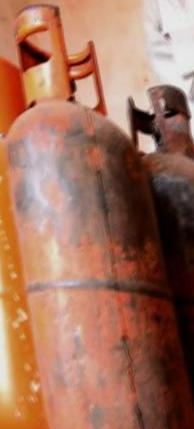cylinder: (1, 0, 194, 429)
